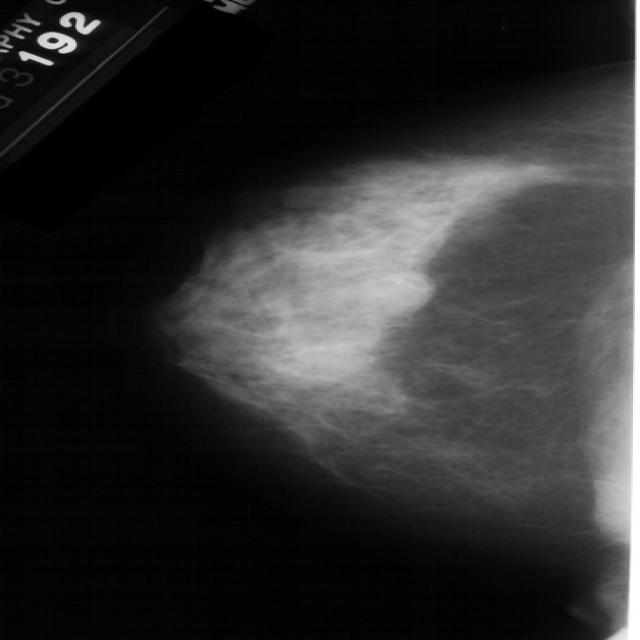tumour: (361, 267, 432, 315)
